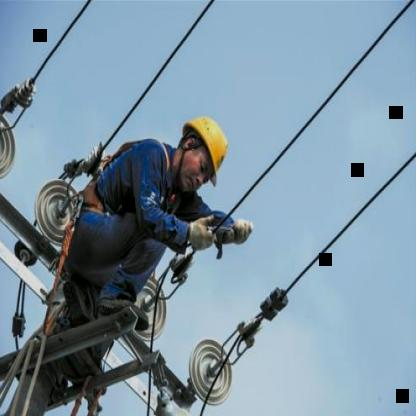helmet: (169, 108, 229, 192)
